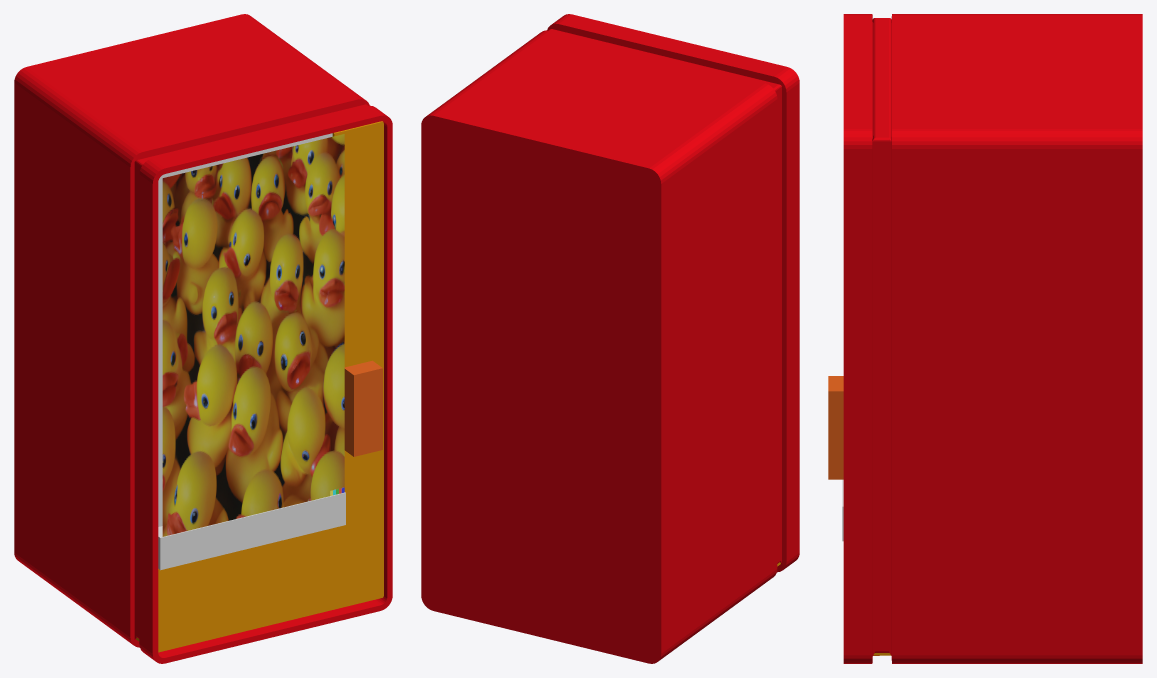
Rendered from vending-machine-red.glb.
3 views of the same model, side by side, from view 1: azimuth 30°, elevation 25°; view 2: azimuth 150°, elevation 25°; view 3: azimuth 270°, elevation 25° (orthographic). The views are drawn at different scales.
Parts seen in each view (by area): view 1: Cube.001, DALL·E 2023-02-05 13.33.33 - wallpaper of rubber duckies, Cube.002, Cube.004, Cube.003, Plane; view 2: Cube.001; view 3: Cube.001, Cube.003.
Part boxes in pixels (<box>): Cube.001: <box>14,14,392,663</box>; DALL·E 2023-02-05 13.33.33 - wallpaper of rubber duckies: <box>162,134,344,536</box>; Cube.002: <box>136,121,383,652</box>; Cube.004: <box>158,492,345,570</box>; Cube.003: <box>344,360,382,456</box>; Plane: <box>158,133,332,526</box>; Cube.001: <box>421,14,799,663</box>; Cube.001: <box>843,14,1142,663</box>; Cube.003: <box>828,376,843,479</box>.
Bounding box in the file's own units: 4.69 × 9.25 × 4.94.
5 materials, 1 textured.
